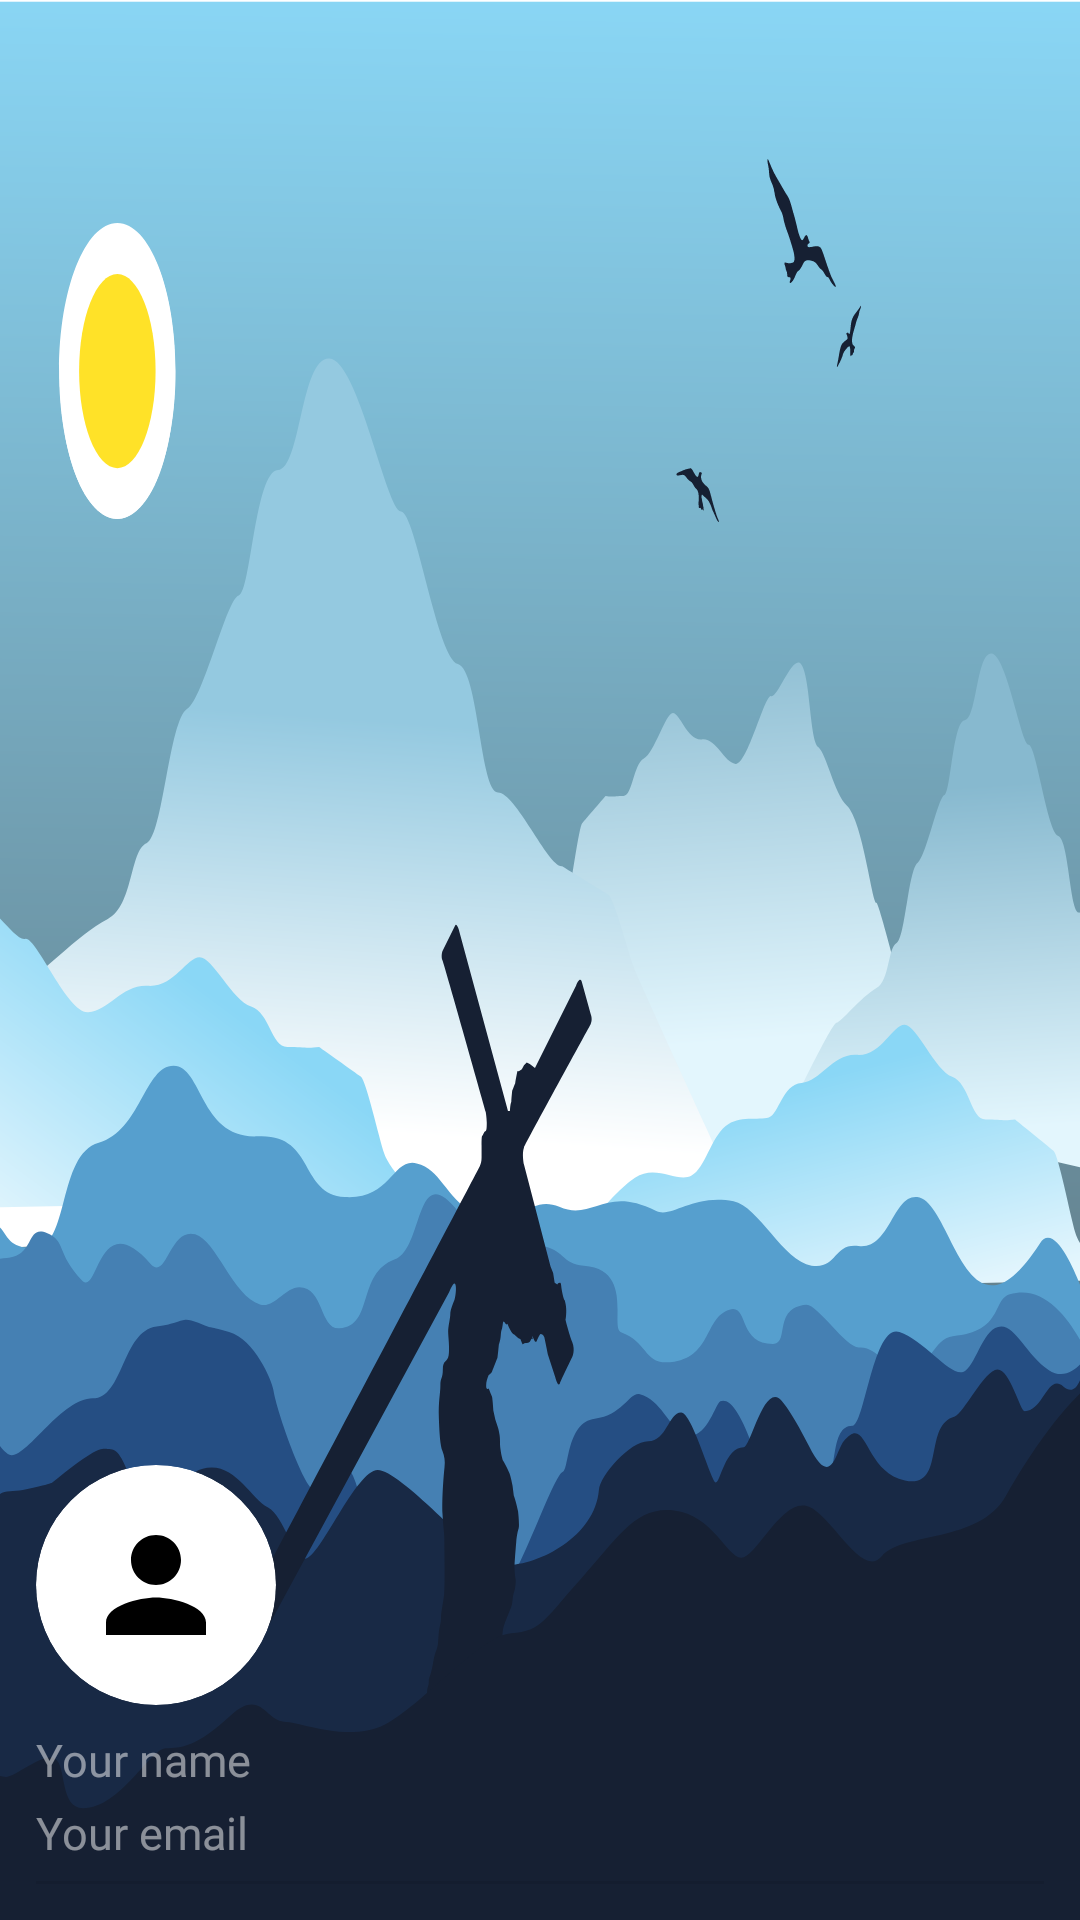

Icon click points for this 1080×1920 phone screenshot, format (x,y):
user: (156,1585)
